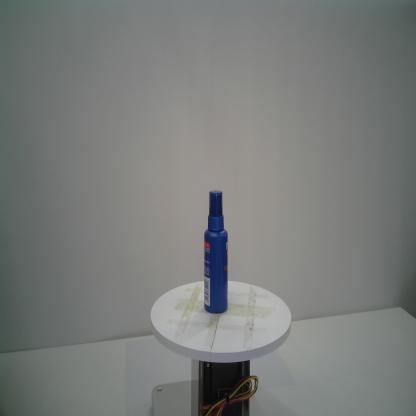Personal Hygiene: (203, 189, 229, 315)
